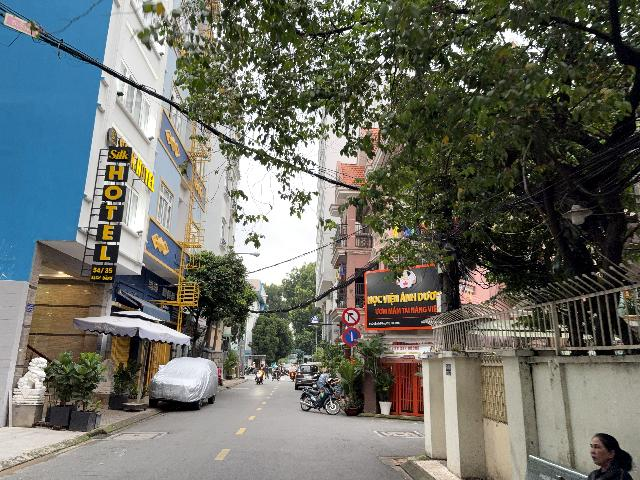cam-do-xe-ngay-le: (342, 327, 361, 347)
cam-re-phai: (342, 307, 360, 326)
